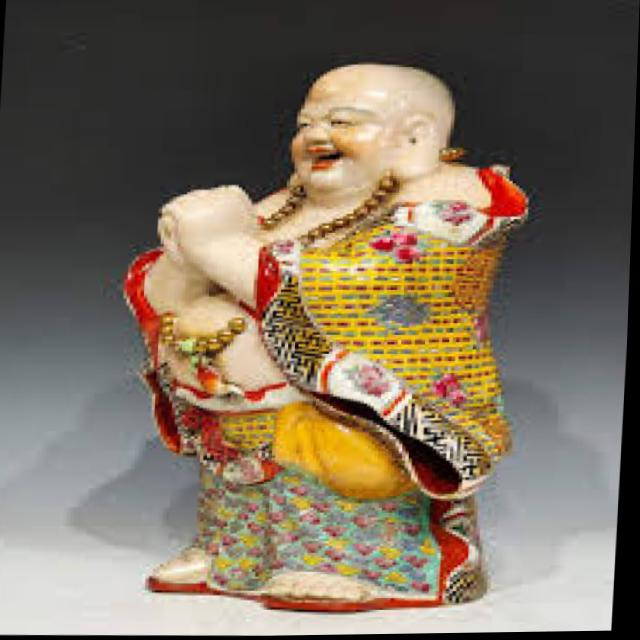Smiling Buddha: (117, 56, 543, 518)
